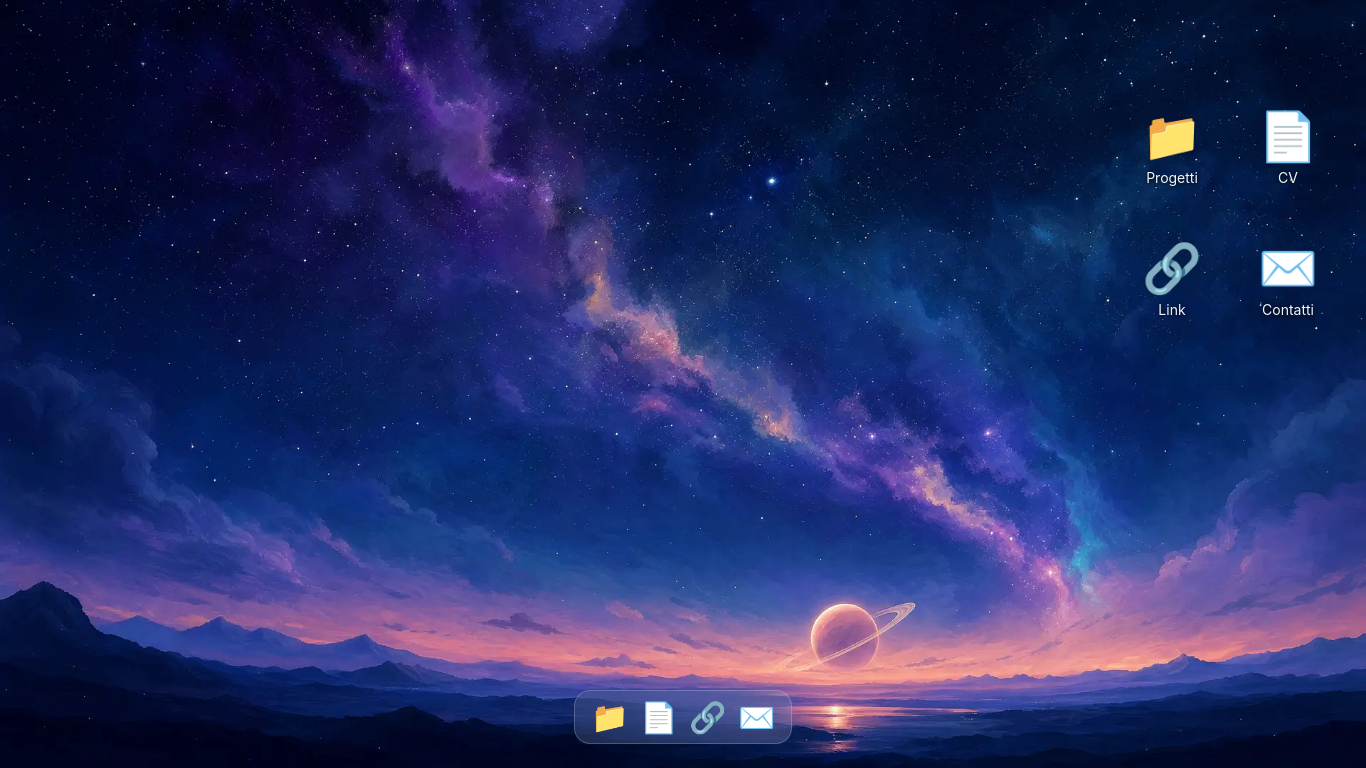
Test: cliccando un pulsante del dock apre la finestra corrispondente
Click the button named "Progetti" at (610, 717), box [591, 699, 628, 735]
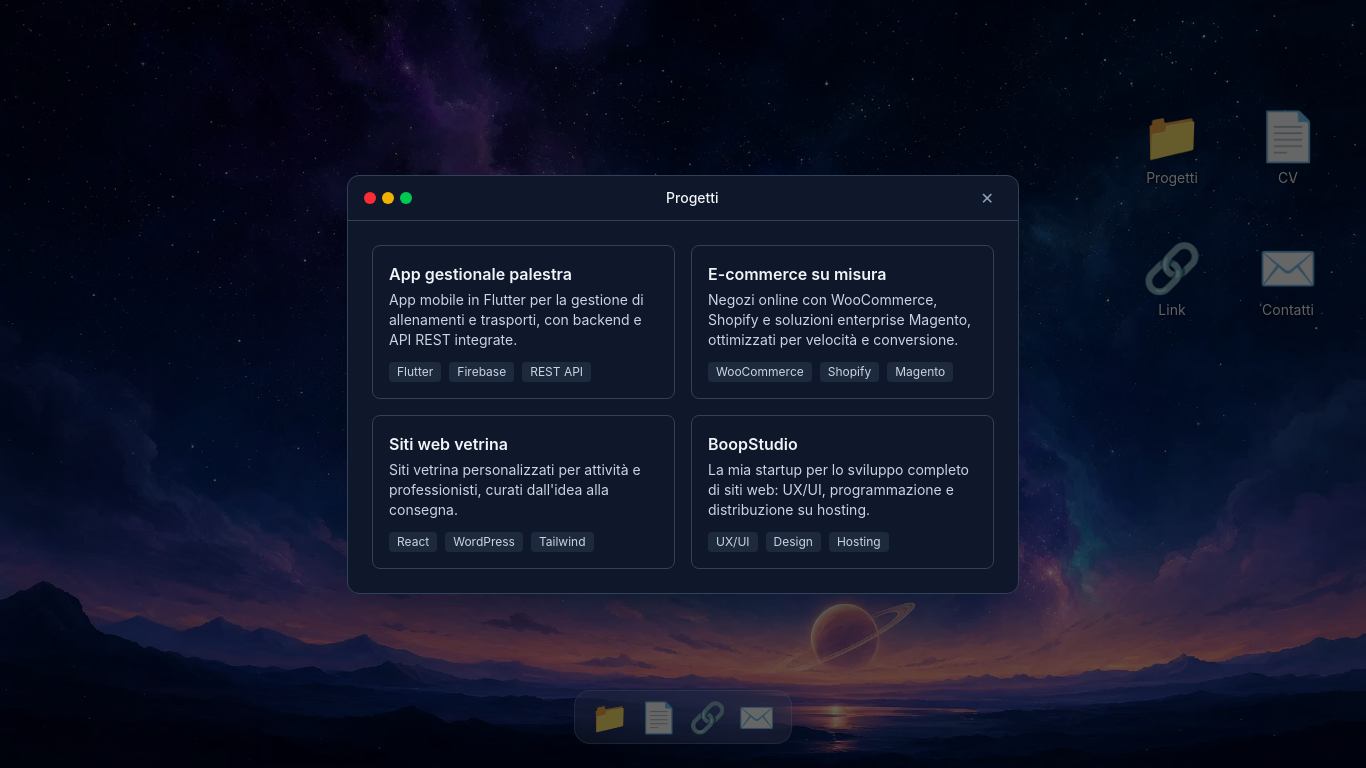
Result: the dialog "Progetti" is shown at [347, 174, 1019, 594]
